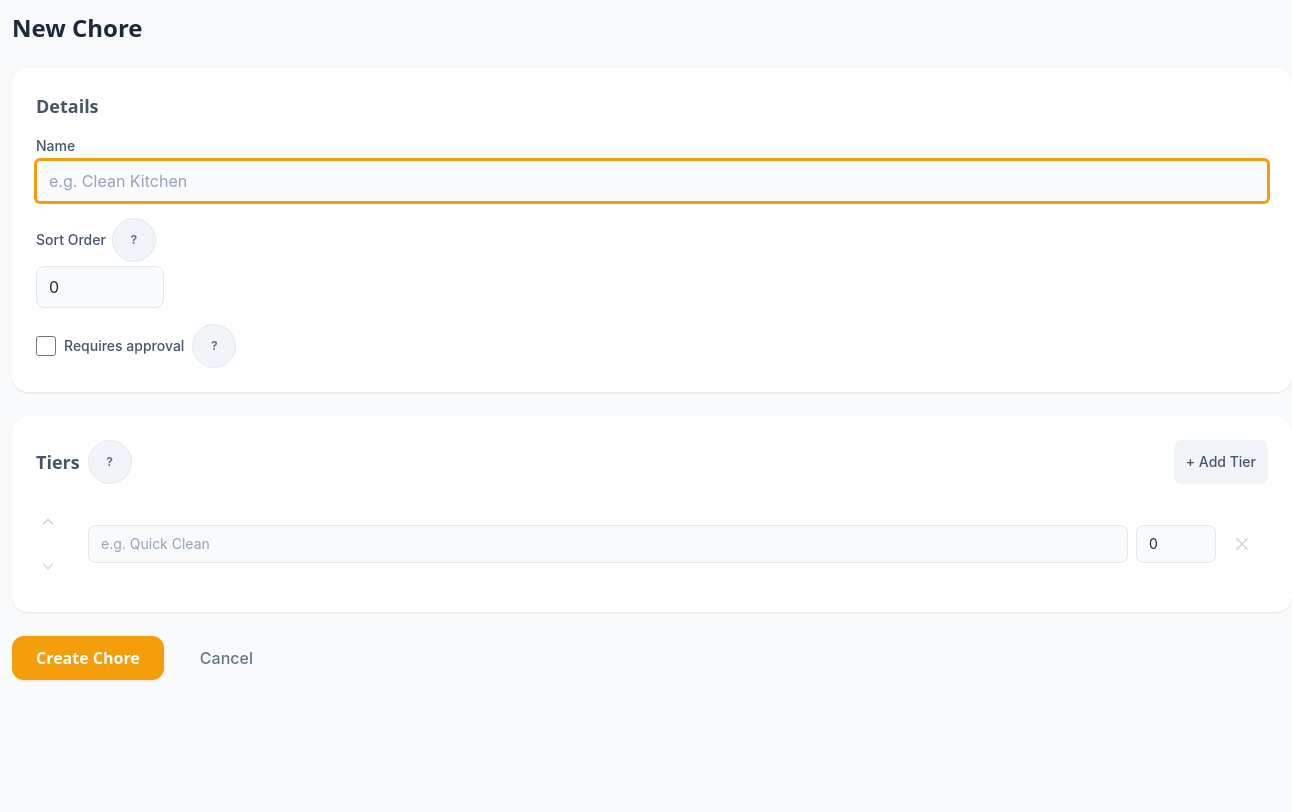
it: AdminChoreForm › shows validation error when name is empty
Type "Basic" into the field named "Tier 1 name" at [608, 544], box [88, 525, 1128, 563]
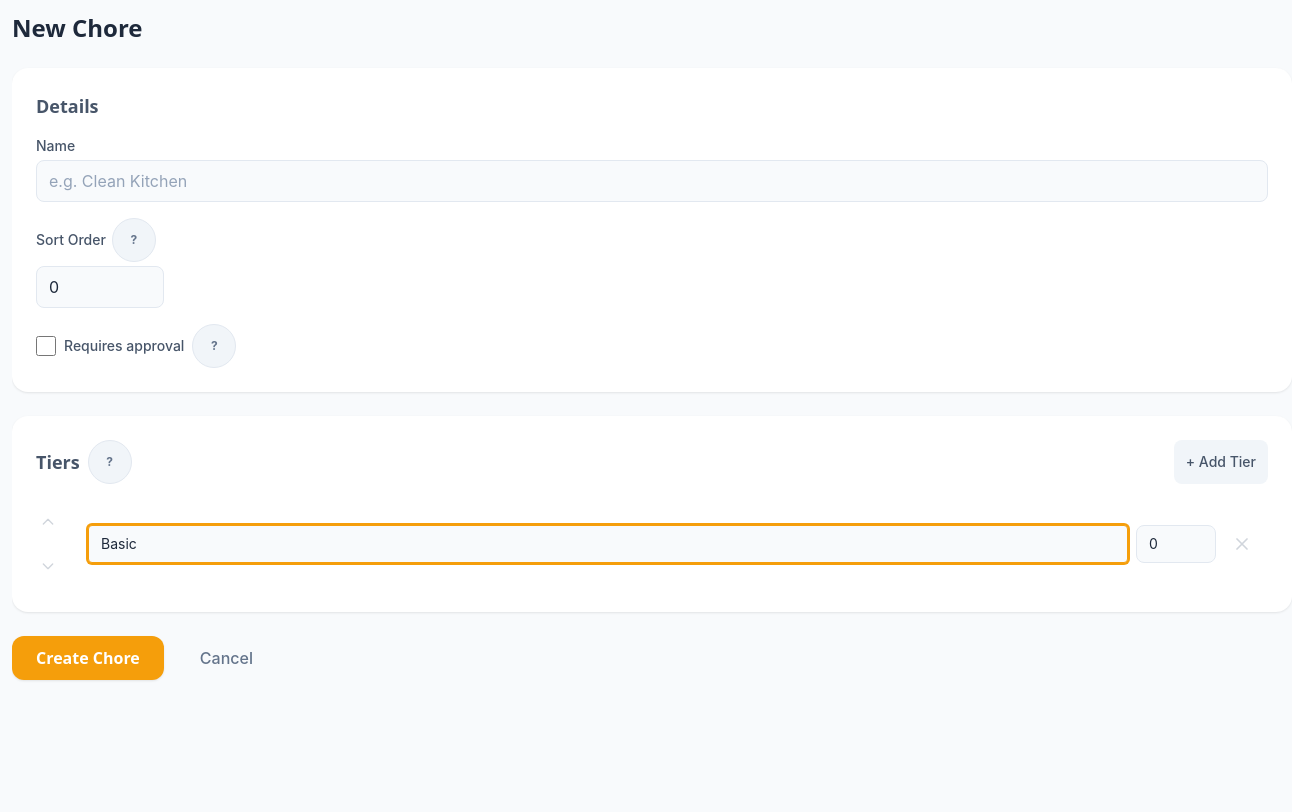
Click the button "Create Chore" at [88, 658], box [12, 636, 164, 680]
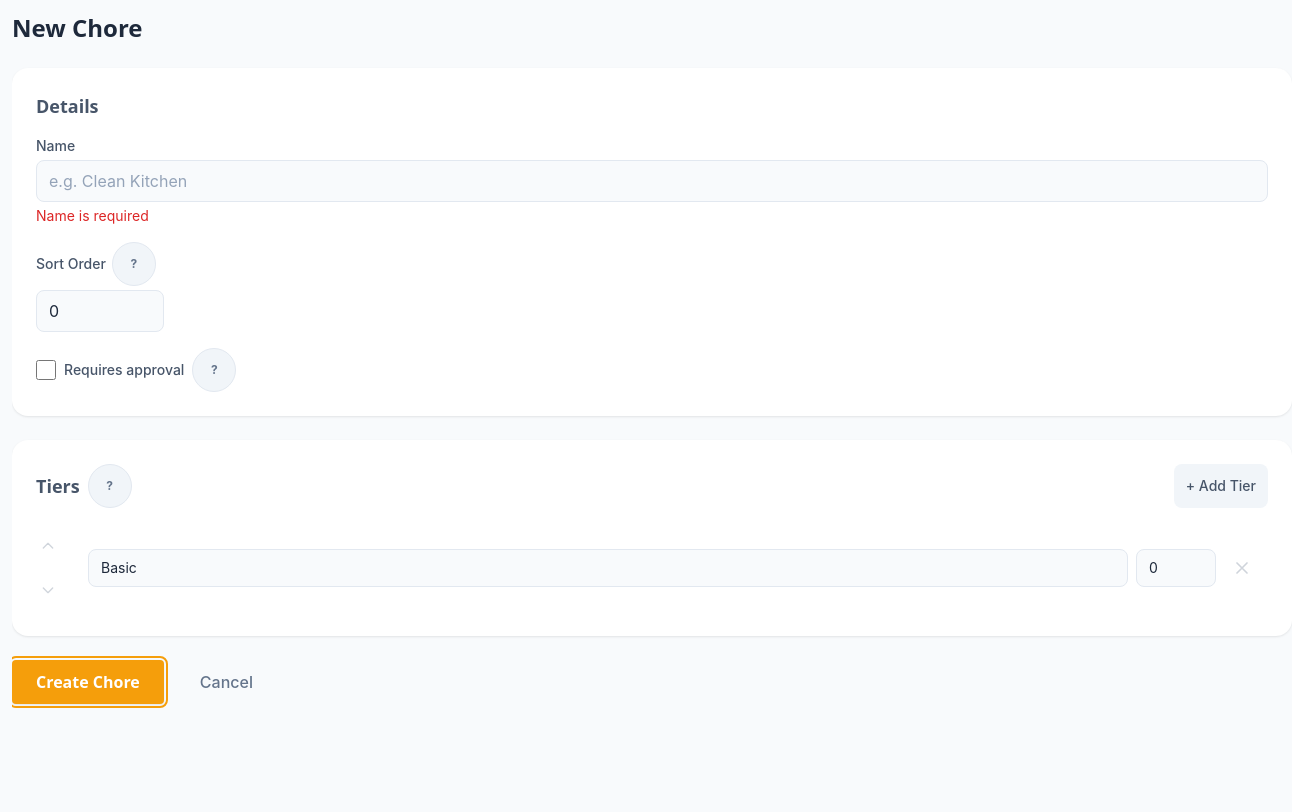
Now the text "Name is required" is shown, box [36, 207, 149, 224]
